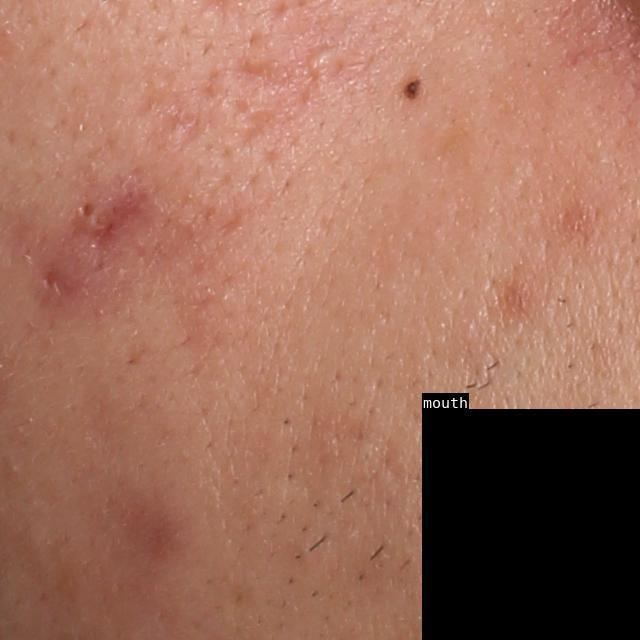atrophic_scar: (235, 58, 322, 93), (223, 91, 273, 144), (40, 262, 73, 297), (271, 0, 290, 21)
comedo: (74, 198, 102, 224)
hypertrophic_scar: (306, 49, 350, 78)
